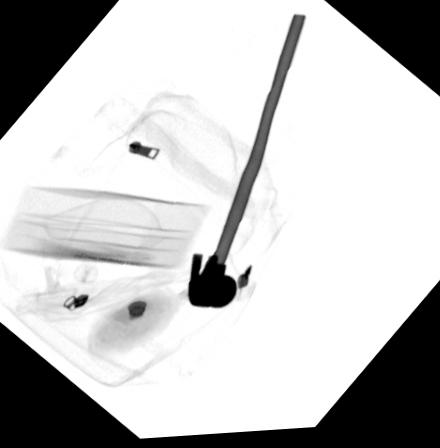Hammer: (185, 17, 305, 312)
